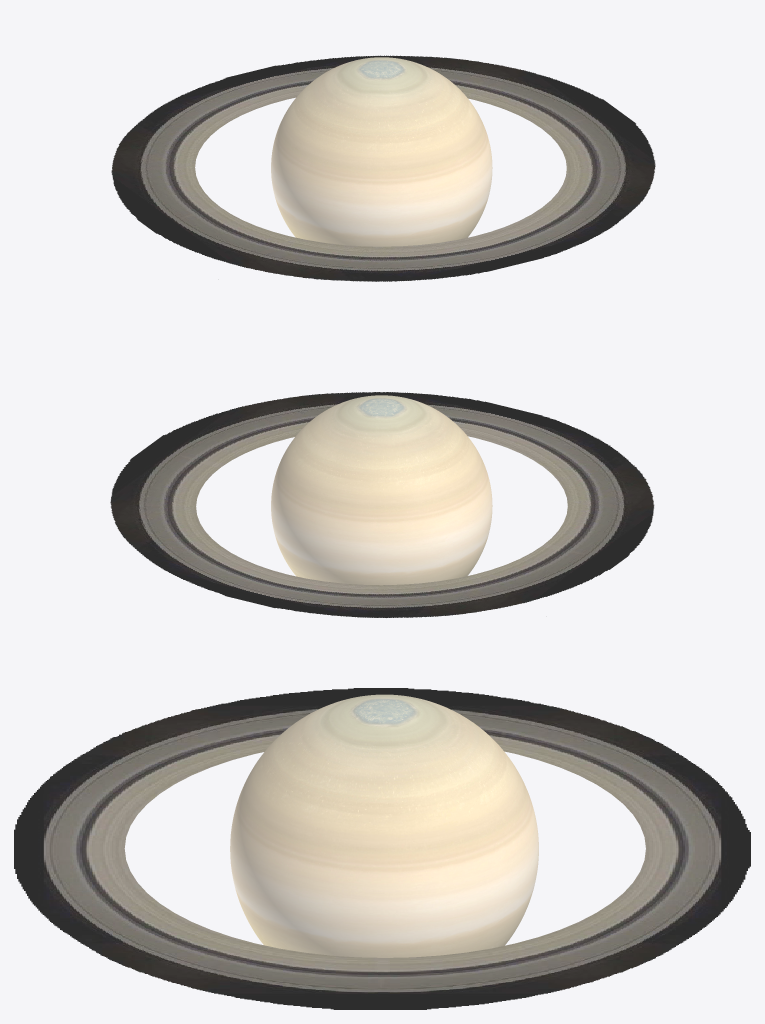
Rendered from saturne.glb.
The picture shows the model from 3 angles, top to bottom: view 1: azimuth 30°, elevation 25°; view 2: azimuth 150°, elevation 25°; view 3: azimuth 270°, elevation 25°; orthographic projection. The views are drawn at different scales.
Parts seen in each view (by area): view 1: Box001, GeoSphere001; view 2: Box001, GeoSphere001; view 3: Box001, GeoSphere001.
Part boxes in pixels (x1,y1,x2,y2): Box001: [111, 55, 655, 281]; GeoSphere001: [271, 57, 492, 246]; Box001: [110, 392, 654, 617]; GeoSphere001: [271, 395, 492, 585]; Box001: [14, 688, 750, 1009]; GeoSphere001: [230, 694, 538, 957].
Size of the model in its own units: 3.16 by 1.28 by 3.06.
Materials: 2 (2 with a texture image).
